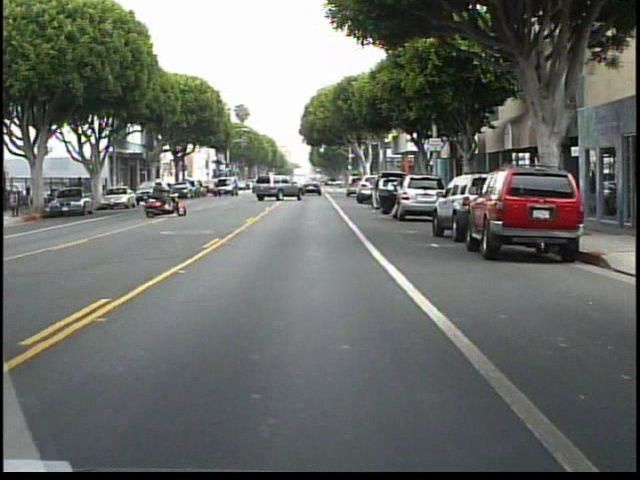person: (146, 178, 171, 214), (72, 171, 89, 209)
